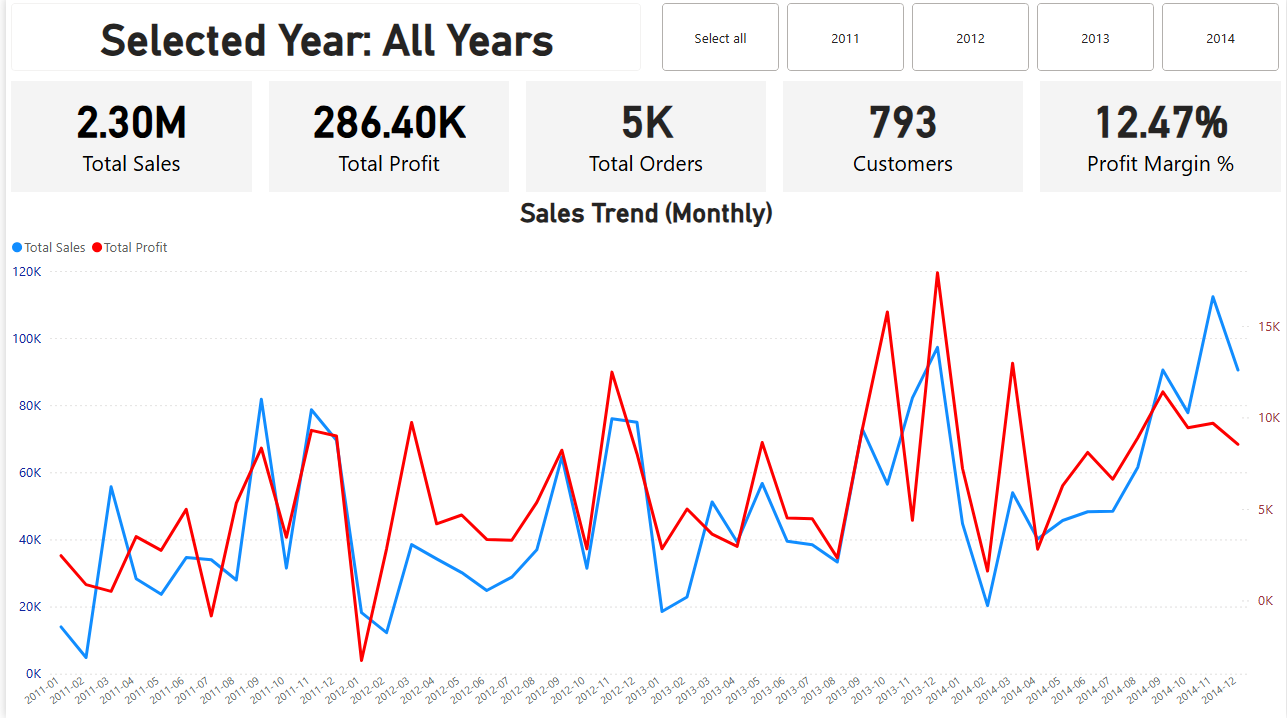

What the dashboard file says about the page in this screenshot:
{"tool":"powerbi","page":{"name":"Sales Trend","canvas":[1280,720],"ordinal":0},"visuals":[{"type":"cardVisual","title":"Total Sale","fields":{"Data":["_measures.Total Profit"]},"box":[257.9,77.9,250,121.5],"z":0},{"type":"cardVisual","title":"Total Sale","fields":{"Data":["_measures.Total Orders"]},"box":[515,77.9,250,121.5],"z":1000},{"type":"cardVisual","title":"Total Sale","fields":{"Data":["_measures.Customers"]},"box":[772.1,77.9,250,121.5],"z":2000},{"type":"cardVisual","title":"Total Sale","fields":{"Data":["_measures.Profit Margin %"]},"box":[1029.3,77.9,250.7,121.5],"z":3000},{"type":"cardVisual","title":"Total Sale","fields":{"Data":["_measures.Total Sales"]},"box":[0,77.9,250.7,121.5],"z":4000},{"type":"lineChart","title":"Sales Trend (Monthly)","fields":{"Y":["_measures.Total Sales"],"Y2":["_measures.Total Profit"],"Category":["dim_date.Year-Month"]},"box":[0,199.3,1280,520.1],"z":5000},{"type":"advancedSlicerVisual","fields":{"Values":["dim_date.Year"]},"box":[650.9,0,629.1,77.9],"z":6000},{"type":"cardVisual","fields":{"Data":["_measures.Selected Year"]},"box":[0,0,640,77.9],"z":7000}]}

Visuals, with their boxes in screenshot pixels (x1, y1, x2, y2), scaled from the page's 1280x720 canvas onto the 1287x718 screenshot:
"Total Sale" cardVisual: [left=259, top=78, right=511, bottom=199]
"Total Sale" cardVisual: [left=518, top=78, right=769, bottom=199]
"Total Sale" cardVisual: [left=776, top=78, right=1028, bottom=199]
"Total Sale" cardVisual: [left=1035, top=78, right=1286, bottom=199]
"Total Sale" cardVisual: [left=0, top=78, right=252, bottom=199]
"Sales Trend (Monthly)" lineChart: [left=0, top=199, right=1286, bottom=717]
advancedSlicerVisual - dim_date.Year: [left=654, top=0, right=1286, bottom=78]
cardVisual - _measures.Selected Year: [left=0, top=0, right=644, bottom=78]
